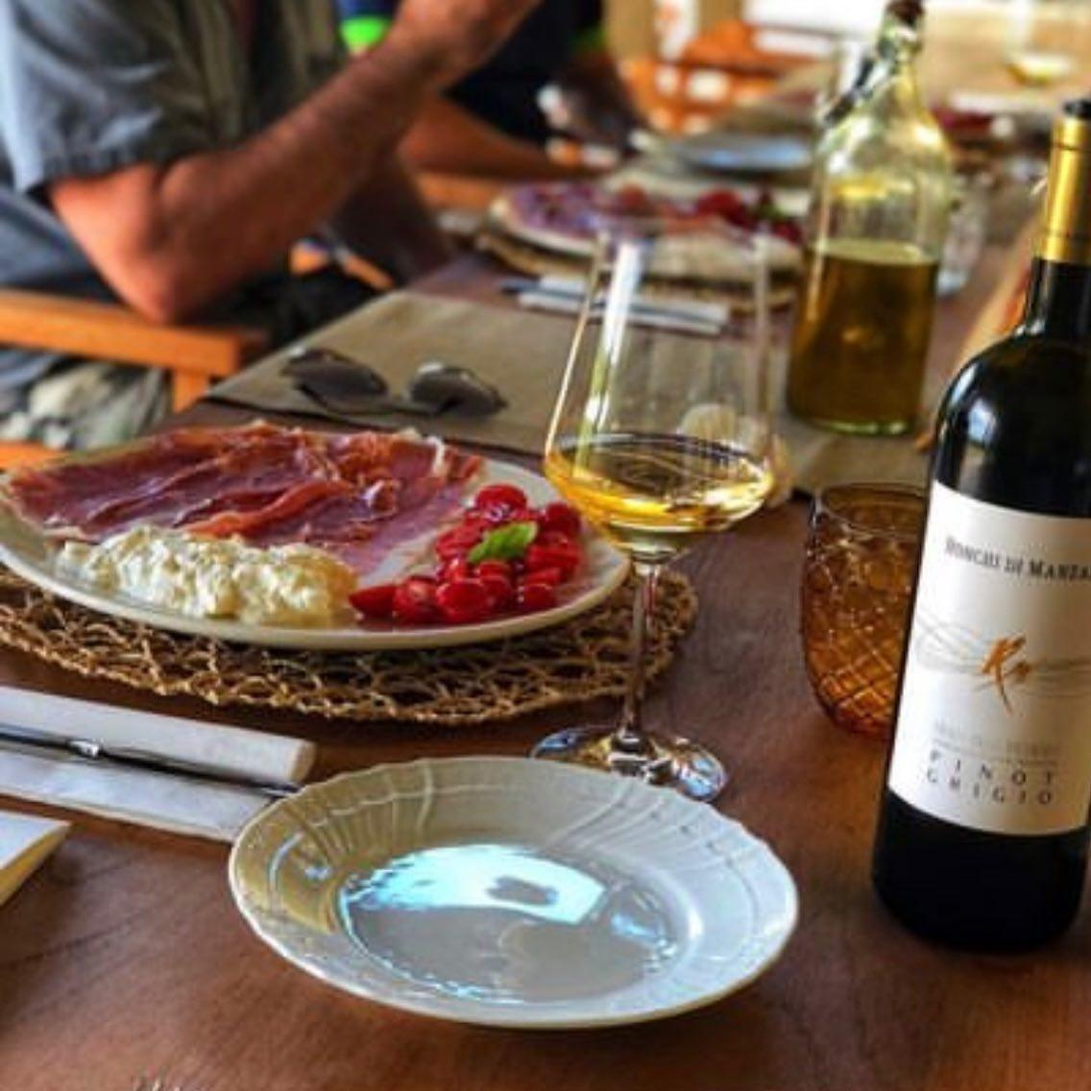bottle-glass: (870, 83, 1091, 972), (784, 0, 956, 434)
glass-wine: (528, 230, 794, 802)
